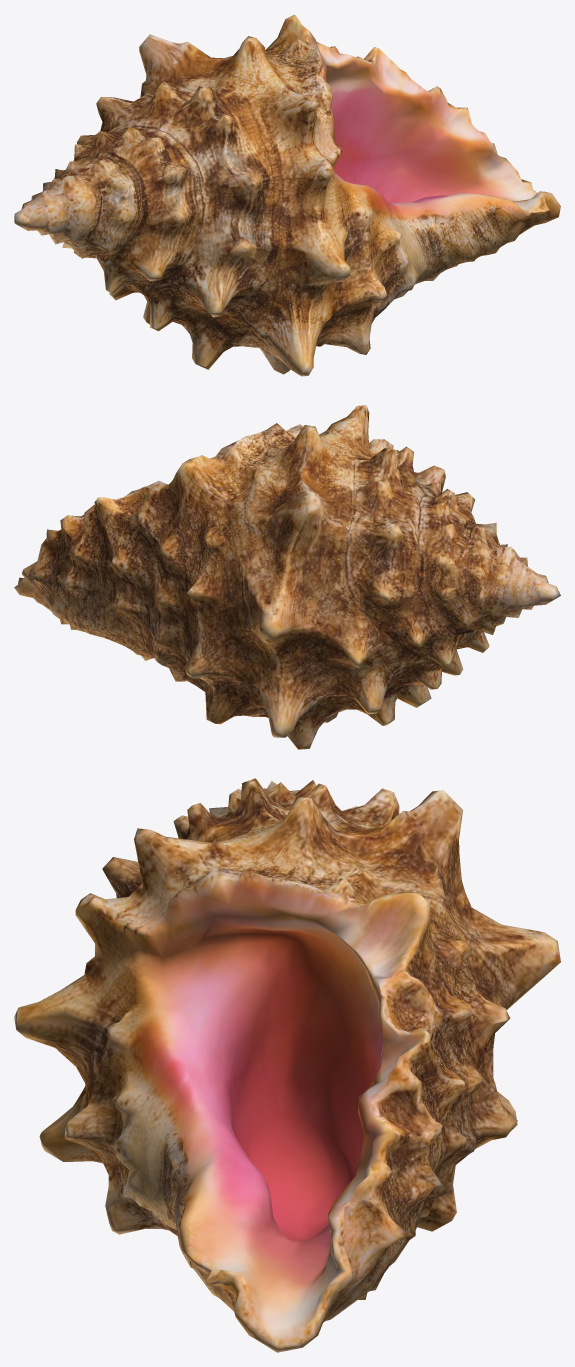
Rendered from Seashell.obj.
3 views of the same model, one above another, from view 1: azimuth 30°, elevation 25°; view 2: azimuth 150°, elevation 25°; view 3: azimuth 270°, elevation 25° (orthographic). The views are drawn at different scales.
Bounding box in the file's own units: 1 × 0.5612 × 0.6136.
1 material, 1 textured.
